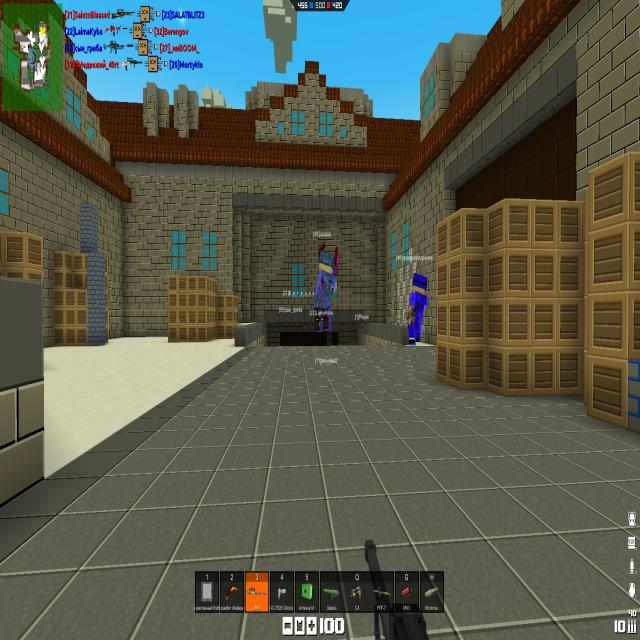player: (312, 242, 338, 334), (408, 275, 428, 344)
